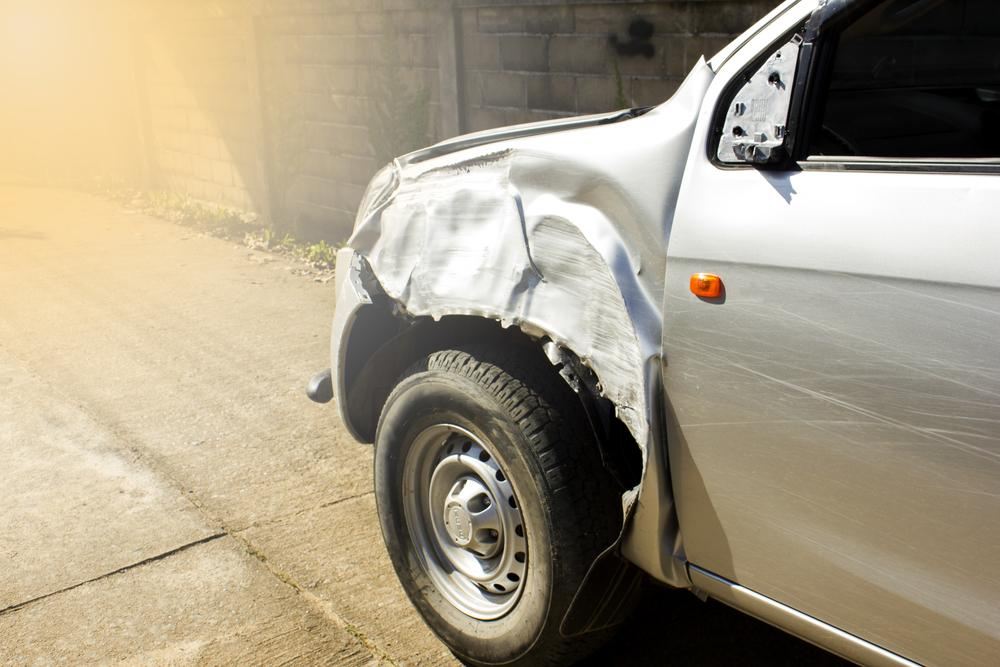dent: (358, 150, 667, 429)
scratch: (672, 282, 1000, 484)
